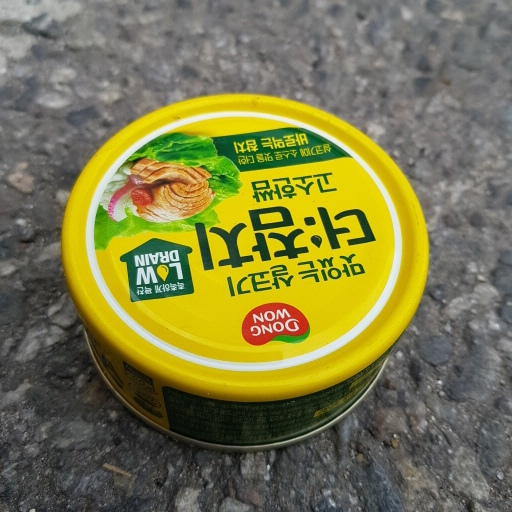Metal_1: (61, 92, 430, 446)
